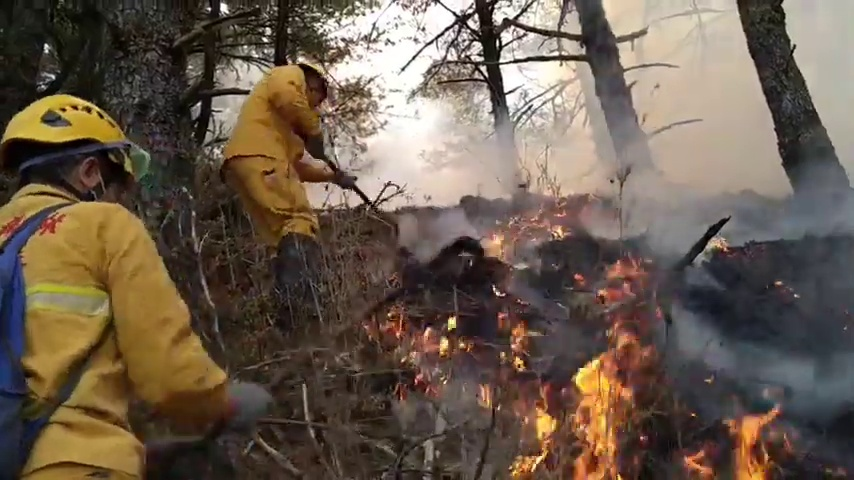fire: (571, 364, 622, 480), (513, 409, 555, 474), (736, 415, 766, 480), (420, 322, 450, 361), (506, 321, 528, 371), (480, 229, 505, 260), (549, 224, 564, 235)
